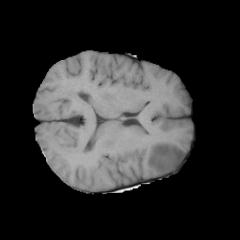glioma: (146, 142, 185, 174)
